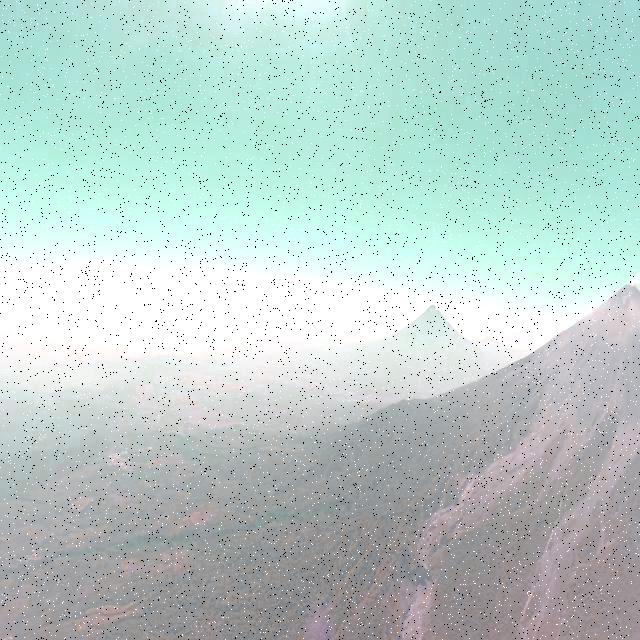Summit: (600, 278, 640, 319)
